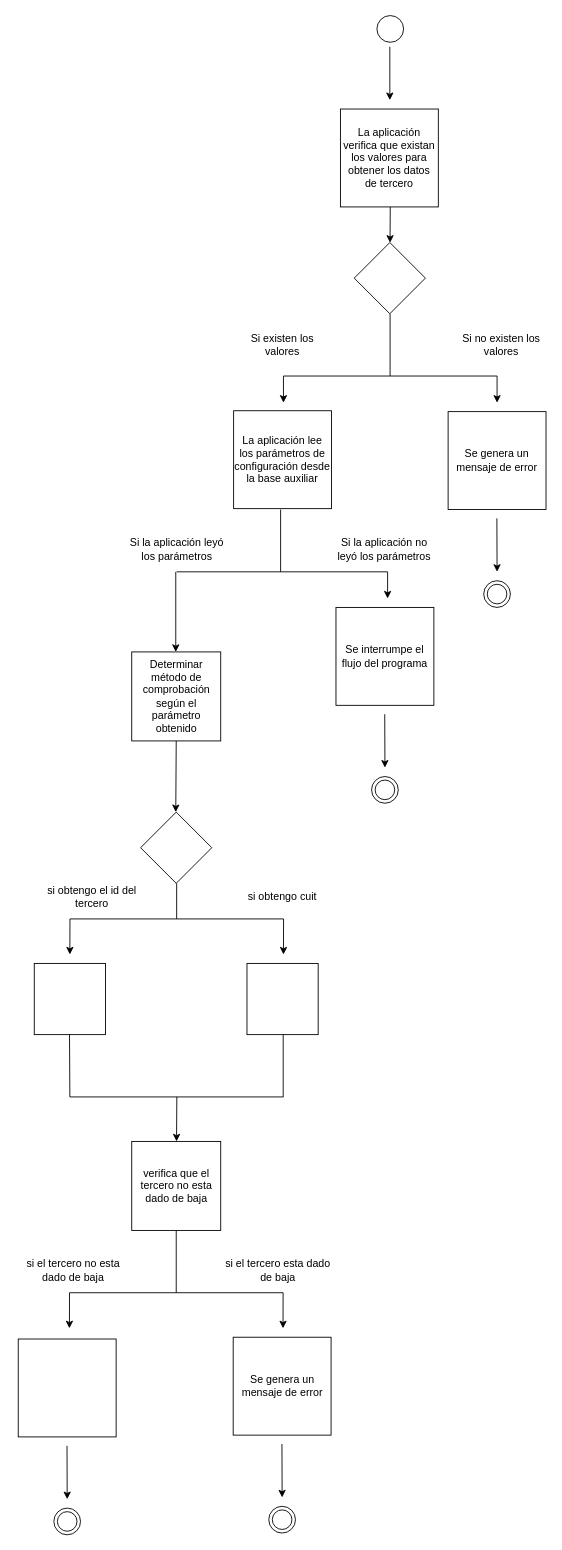
This 562x1550 diagram has some shape labels left out. Here are the shapes that lost their labels. From the top down, the centre of each, then its label:
At point (69, 999): "Obtengo los datos del tercero por el idauxi".
At point (282, 999): "Obtengo los datos del tercero por el cuit".
At point (66, 1387): "Se cargan los datos del comprobante".
